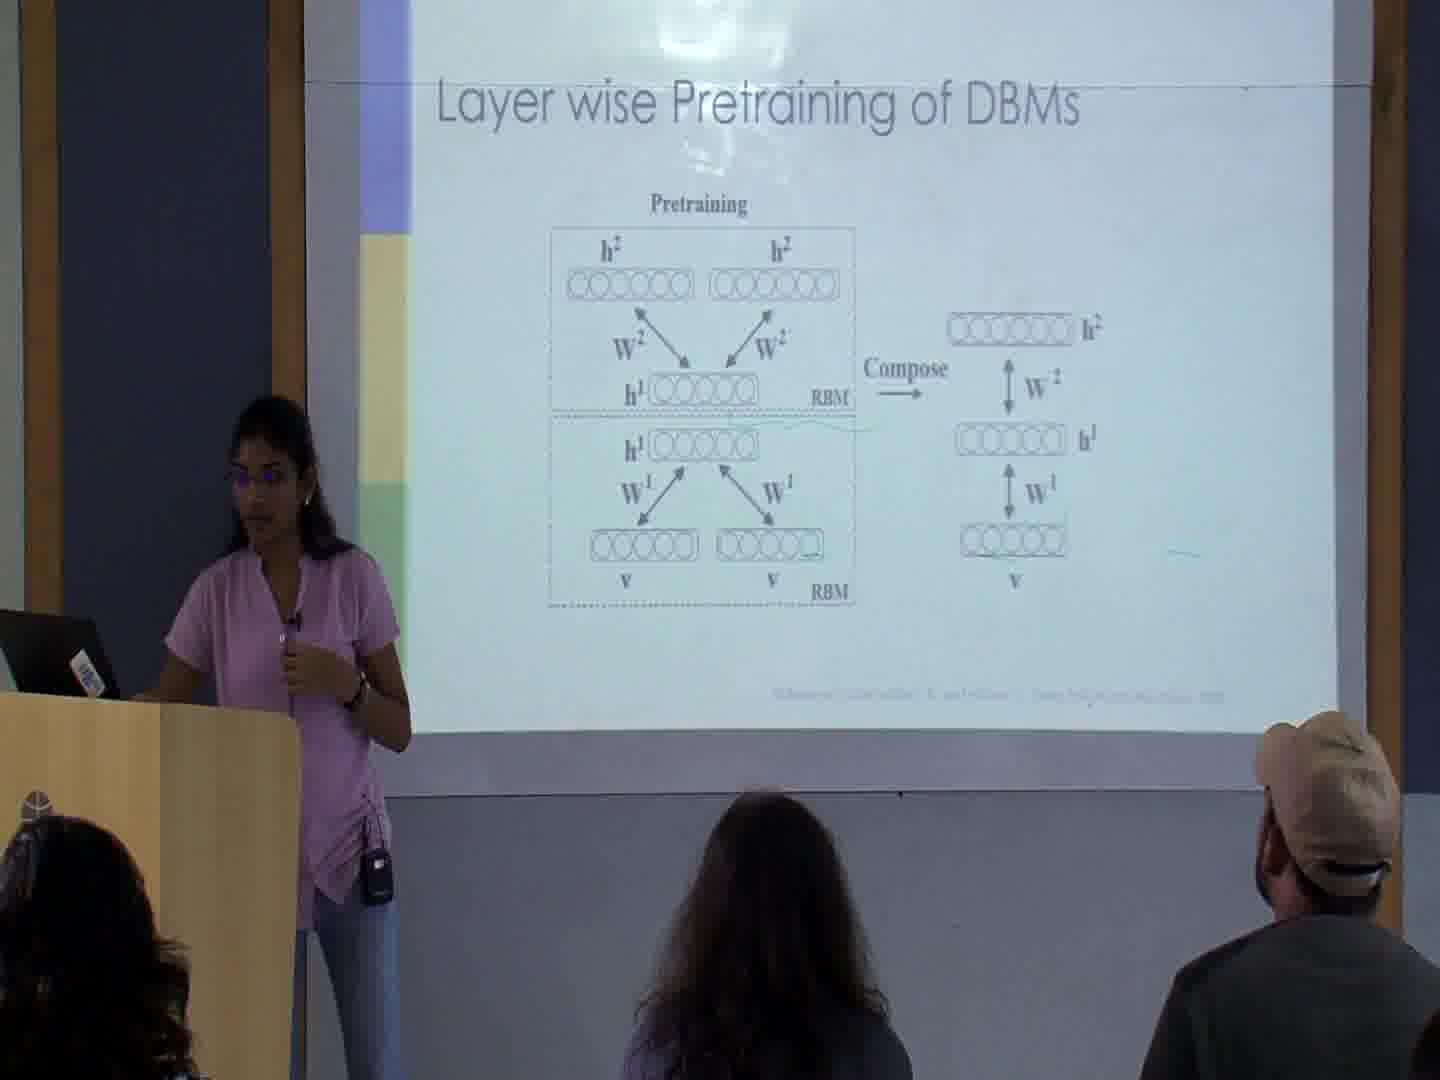slide: (356, 1, 1335, 732)
